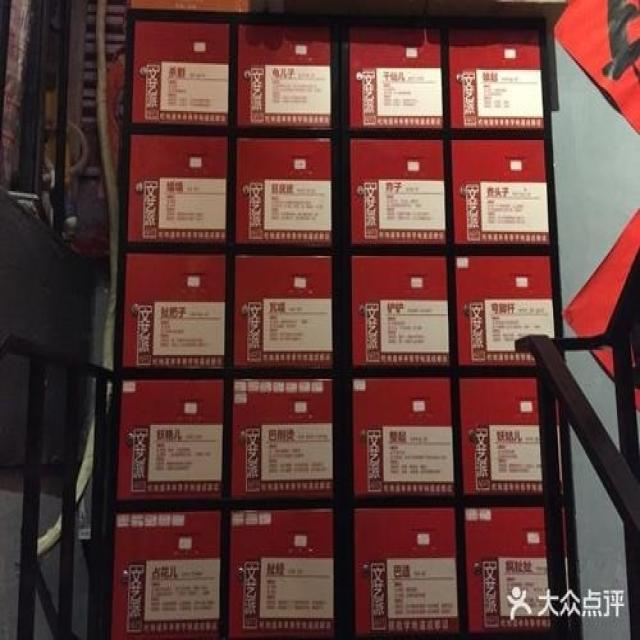box: (110, 510, 220, 638), (229, 510, 334, 636), (354, 509, 458, 634), (117, 380, 223, 500), (231, 380, 331, 497), (353, 378, 453, 495), (123, 253, 225, 366), (352, 257, 450, 368), (234, 257, 332, 366), (464, 508, 552, 629), (129, 135, 228, 242), (456, 257, 555, 363), (453, 139, 551, 246), (236, 138, 331, 245), (350, 138, 445, 244), (132, 25, 232, 125), (237, 26, 333, 130), (352, 24, 443, 132), (449, 24, 543, 128), (458, 379, 541, 494), (128, 2, 268, 15), (265, 3, 288, 16)
